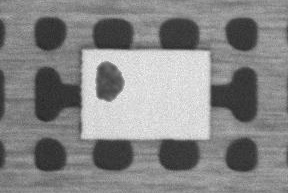DIE_INK: (140, 39, 191, 70)
